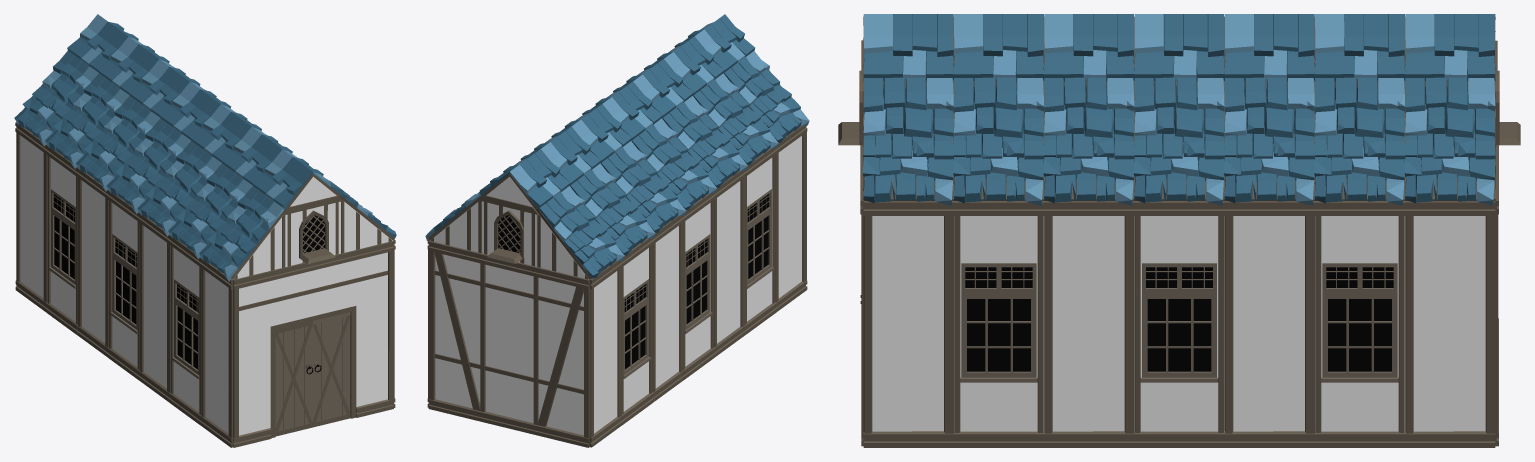
File: House_04_full.glb
3 renders of one model, left to right at view 1: azimuth 30°, elevation 25°; view 2: azimuth 150°, elevation 25°; view 3: azimuth 270°, elevation 25°, orthographic. The views are drawn at different scales.
Visible parts, largest first — view 1: DOOR_03_2, WALL_03_7, WINDOW_04_6, WALL_03_8, WALL_03_10, WINDOW_04_8, WINDOW_04_7, WALL_03_9, ROOF_base_16, ROOF_base_10, ROOF_base_11, ROOF_base_14 (+16 smaller); view 2: WALL_02_2, WALL_03_10, WALL_03_8, WALL_03_7, WALL_03_9, WINDOW_04_6, WINDOW_04_8, WINDOW_04_7, ROOF_base_10, ROOF_base_15, ROOF_base_11, ROOF_base_13 (+15 smaller); view 3: WALL_03_4, WALL_03_6, WINDOW_04_4, WALL_03_5, WALL_03_3, WINDOW_04_5, WINDOW_04_3, ROOF_base_9, ROOF_base_5, ROOF_base_6, ROOF_base_3, ROOF_base_7 (+13 smaller).
Boxes of the visible parts, box(x1,y1,x2,y2) form: DOOR_03_2: box(233, 241, 394, 447); WALL_03_7: box(200, 257, 233, 447); WINDOW_04_6: box(169, 235, 201, 424); WALL_03_8: box(138, 212, 170, 402); WALL_03_10: box(15, 122, 47, 311); WINDOW_04_8: box(46, 145, 78, 334); WINDOW_04_7: box(107, 190, 139, 379); WALL_03_9: box(77, 167, 108, 357); ROOF_base_16: box(199, 186, 286, 281); ROOF_base_10: box(14, 51, 98, 146); ROOF_base_11: box(168, 163, 252, 259); ROOF_base_14: box(76, 95, 159, 191); WALL_02_2: box(428, 241, 589, 447); WALL_03_10: box(589, 260, 622, 447); WALL_03_8: box(713, 170, 745, 356); WALL_03_7: box(775, 125, 807, 311); WALL_03_9: box(652, 215, 684, 402); WINDOW_04_6: box(744, 148, 776, 334); WINDOW_04_8: box(621, 238, 653, 424); WINDOW_04_7: box(683, 193, 714, 379); ROOF_base_10: box(536, 186, 624, 279); ROOF_base_15: box(662, 96, 747, 187); ROOF_base_11: box(693, 73, 778, 165); ROOF_base_13: box(570, 163, 655, 255); WALL_03_4: box(1044, 201, 1134, 447); WALL_03_6: box(1405, 201, 1495, 447); WINDOW_04_4: box(1134, 201, 1224, 447); WALL_03_5: box(1224, 201, 1314, 447); WALL_03_3: box(863, 201, 953, 447); WINDOW_04_5: box(1315, 201, 1404, 447); WINDOW_04_3: box(954, 201, 1043, 447); ROOF_base_9: box(1404, 77, 1495, 205); ROOF_base_5: box(1043, 77, 1134, 205); ROOF_base_6: box(1133, 75, 1224, 205); ROOF_base_3: box(862, 76, 953, 205); ROOF_base_7: box(1223, 76, 1315, 205).
Size of the model in its own units: 3.2 by 4.59 by 7.56.
Materials: 1 (1 with a texture image).
